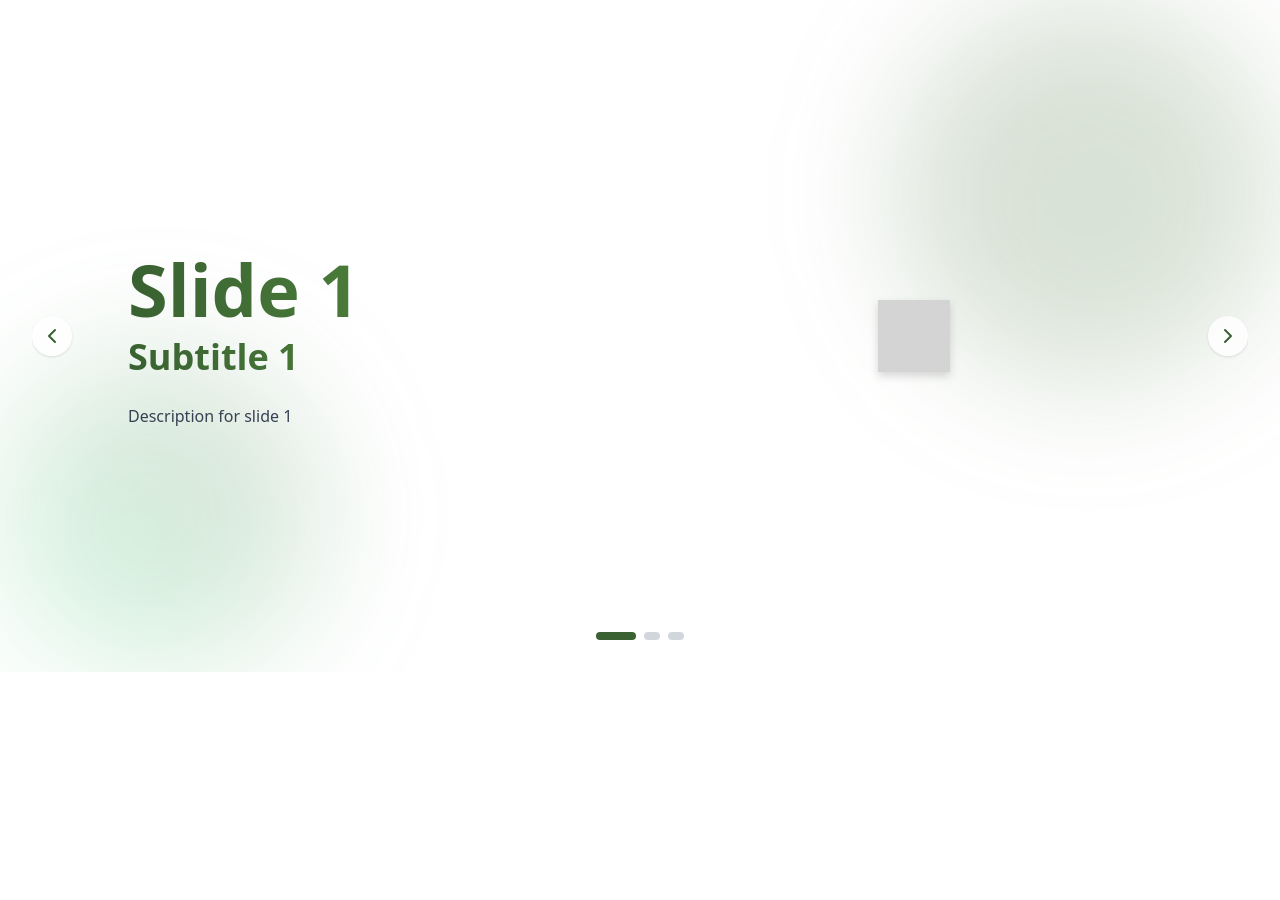
Scenario: CarouselSection Component › Learn More Button › excludes learn more for specific titles
Navigate to next slide
Click the button named "next": (1228, 336) [1208,316,1248,356]
Wait 600 ms
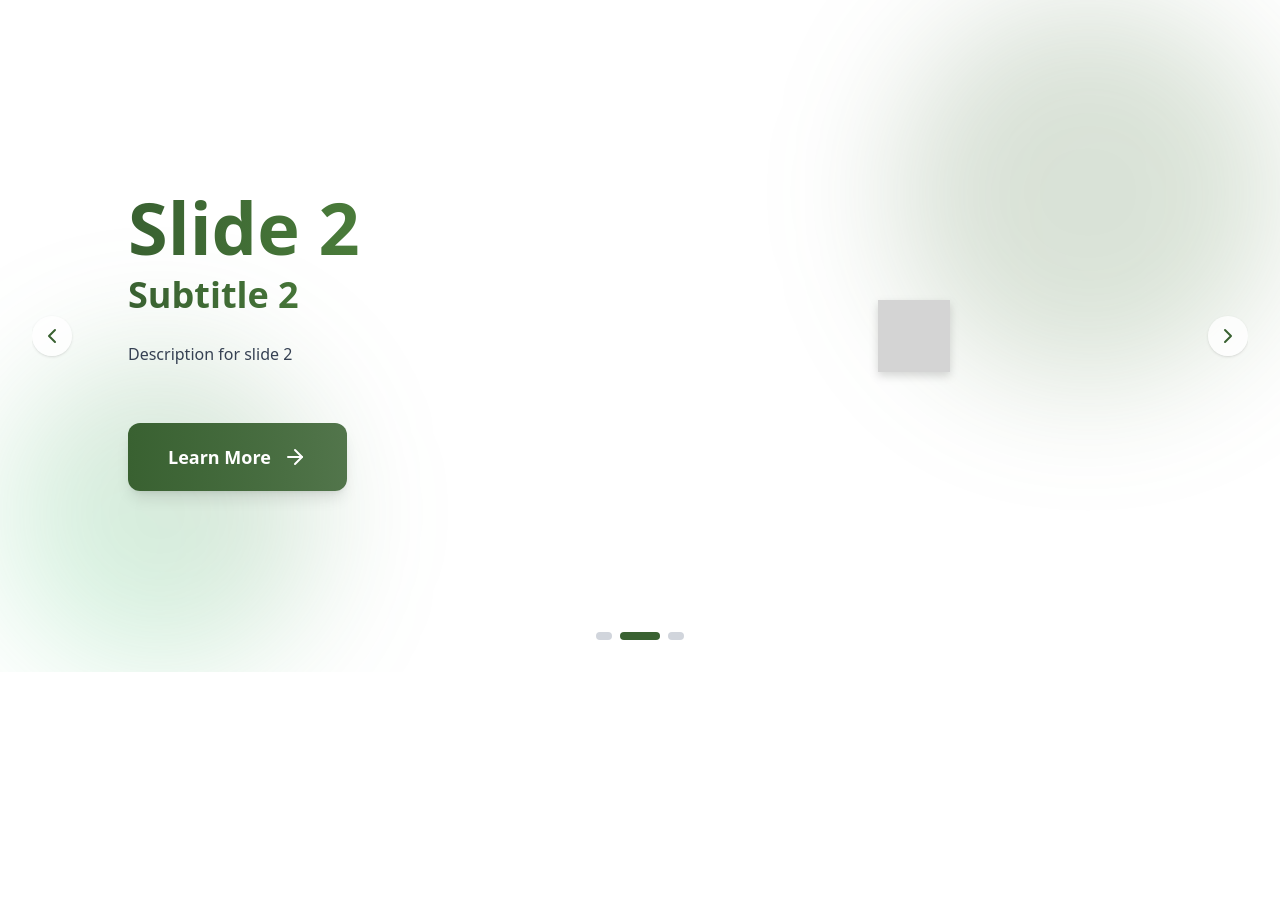
Expected: the number of links "Learn More" is 2
